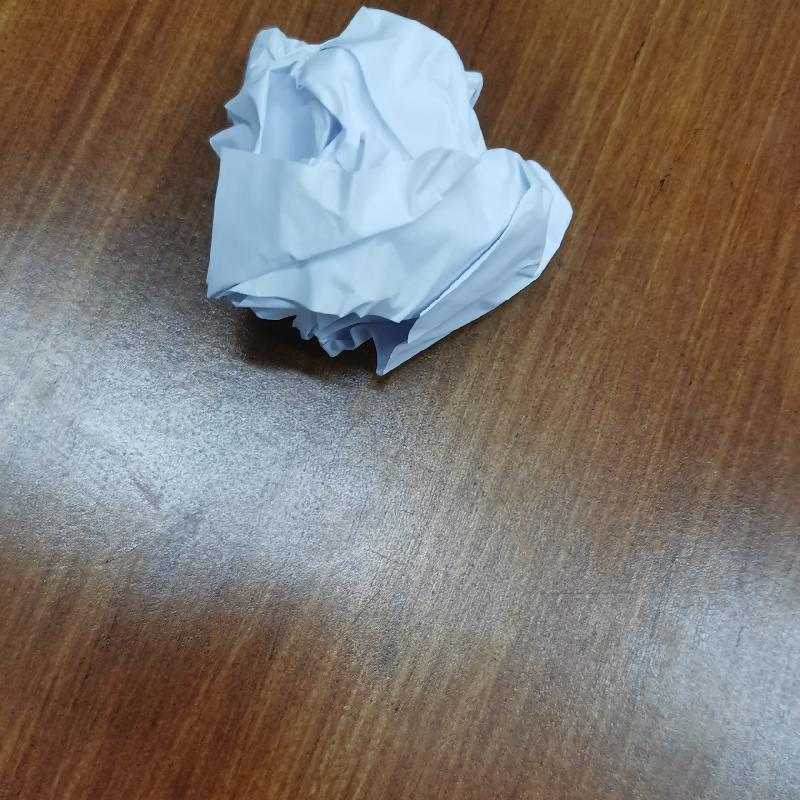spitball: (197, 0, 577, 382)
